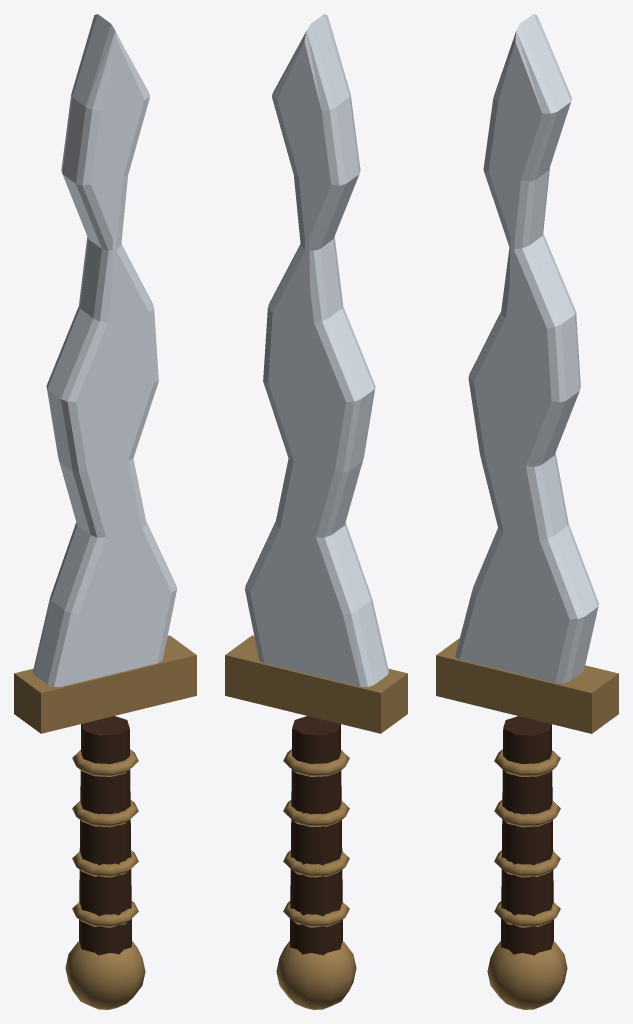
The model's file is dagger_f2_67b85891.glb.
The picture shows the model from 3 angles, left to right: view 1: azimuth 30°, elevation 25°; view 2: azimuth 150°, elevation 25°; view 3: azimuth 330°, elevation 25°; orthographic projection.
Parts seen in each view (by area): view 1: m0_ow80_, m2_ow80_, m1_ow80_; view 2: m0_ow80_, m2_ow80_, m1_ow80_; view 3: m0_ow80_, m2_ow80_, m1_ow80_.
Boxes of the visible parts, left/top/right/bottom form: m0_ow80_: left=33, top=14, right=176, bottom=686; m2_ow80_: left=14, top=635, right=196, bottom=1009; m1_ow80_: left=79, top=716, right=131, bottom=955; m0_ow80_: left=245, top=14, right=388, bottom=686; m2_ow80_: left=225, top=635, right=407, bottom=1009; m1_ow80_: left=290, top=716, right=342, bottom=955; m0_ow80_: left=455, top=14, right=598, bottom=683; m2_ow80_: left=436, top=638, right=618, bottom=1009; m1_ow80_: left=501, top=716, right=553, bottom=955.
Bounding box in the file's own units: 0.2 × 1.21 × 0.0852.
